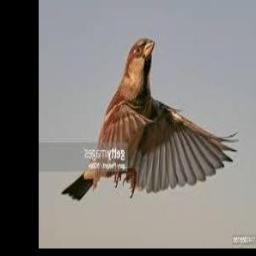Sparrow: (62, 37, 239, 201)
